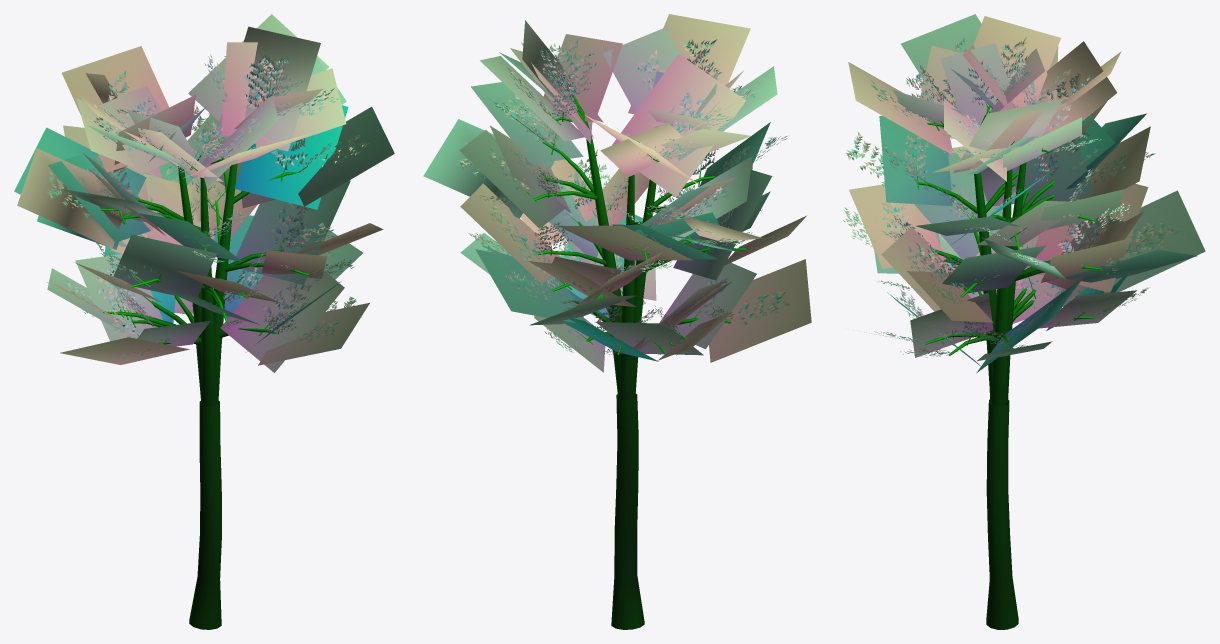
Rendered from hill_b_1.glb.
3 renders of one model, left to right at view 1: azimuth 30°, elevation 25°; view 2: azimuth 150°, elevation 25°; view 3: azimuth 270°, elevation 25°, orthographic. The views are drawn at different scales.
Parts seen in each view (by area): view 1: mid, near; view 2: mid, near; view 3: mid, near.
Part boxes in pixels (x1=…): mid: x1=14, y1=14, x2=394, y2=406; near: x1=47, y1=54, x2=369, y2=629; mid: x1=423, y1=14, x2=811, y2=400; near: x1=458, y1=39, x2=789, y2=629; mid: x1=848, y1=14, x2=1205, y2=405; near: x1=843, y1=37, x2=1179, y2=629.
Bounding box in the file's own units: 8 × 12.89 × 7.59.
